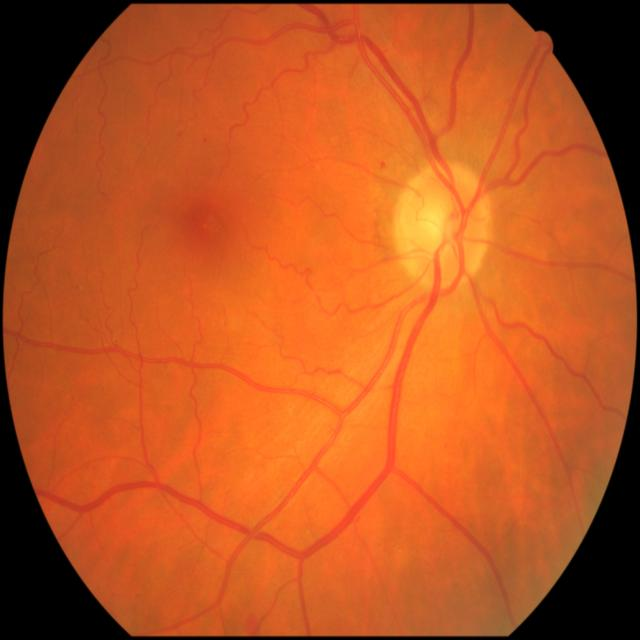OC: (421, 201, 460, 250)
OD: (396, 162, 492, 284)
